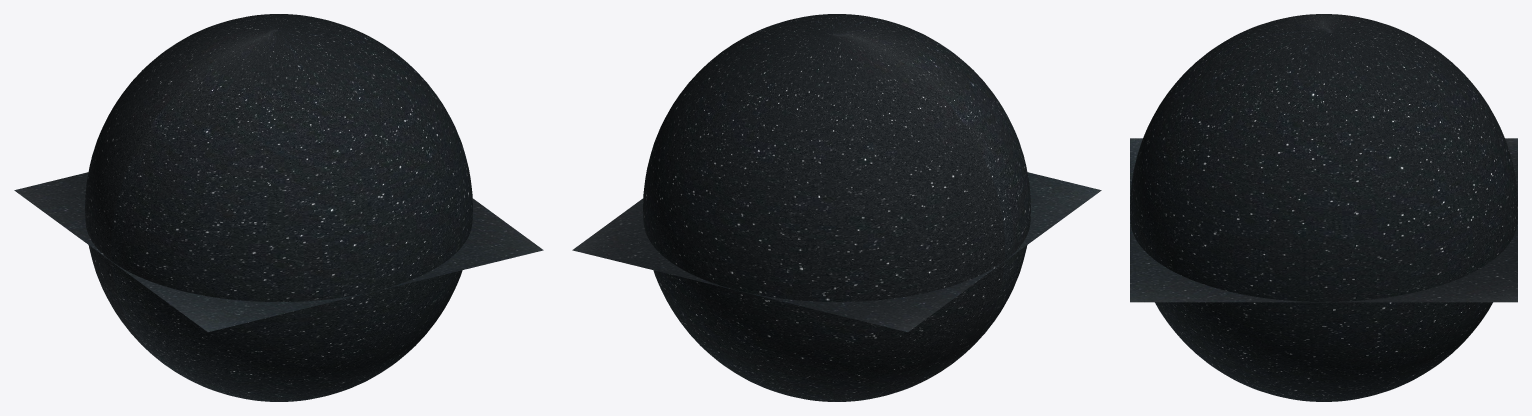
File: solar-transformed.glb
3 renders of one model, left to right at view 1: azimuth 30°, elevation 25°; view 2: azimuth 150°, elevation 25°; view 3: azimuth 270°, elevation 25°, orthographic.
Visible parts, largest first — view 1: Sphere, Plane.001; view 2: Sphere, Plane.001; view 3: Sphere, Plane.001.
Part boxes in pixels (x1,y1,x2,y2): Sphere: (85,14,472,401); Plane.001: (14,172,543,332); Sphere: (643,14,1030,401); Plane.001: (572,172,1101,332); Sphere: (1130,14,1517,401); Plane.001: (1130,138,1517,302).
Bounding box in the file's own units: 48.02 × 48.02 × 48.02.
Materials: 13 (12 with a texture image).
